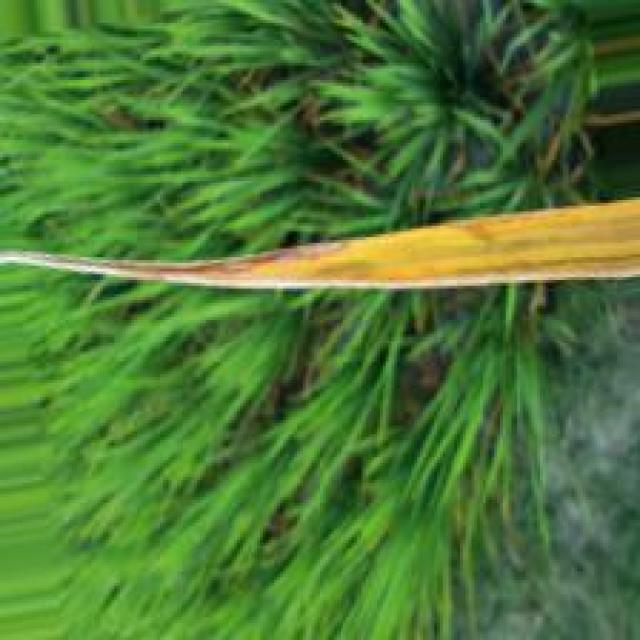Bacterial_Leaf_Blight: (2, 242, 640, 289)
